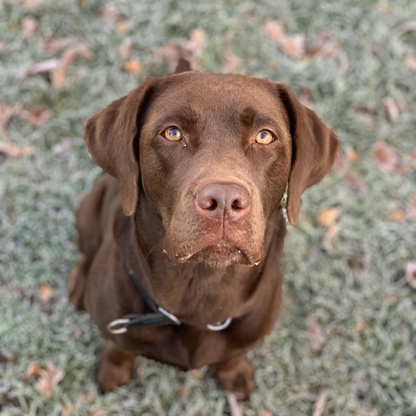labrado: (58, 64, 342, 406)
